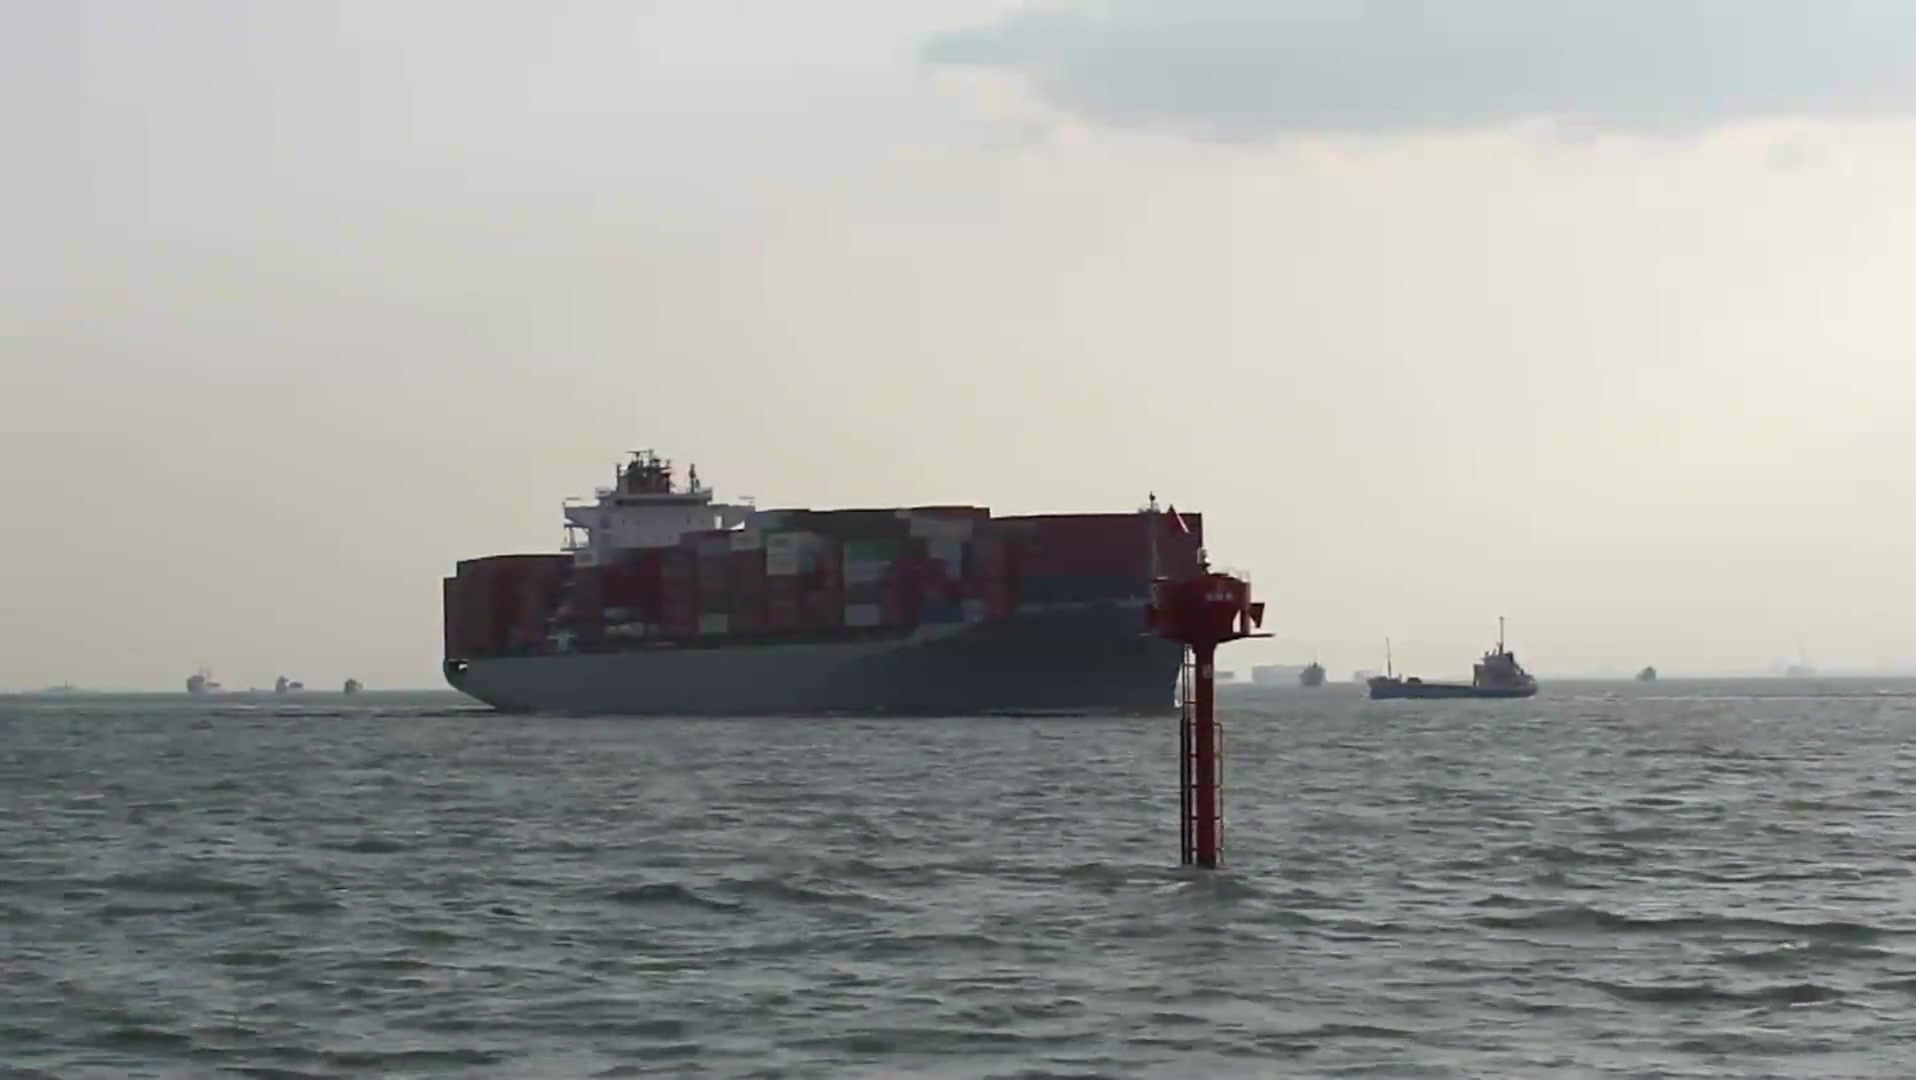boat: (438, 447, 1209, 721), (1361, 617, 1545, 708), (1240, 656, 1334, 699), (261, 674, 322, 702), (183, 670, 225, 709), (341, 667, 368, 702)
